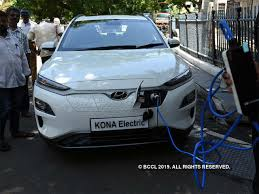car: (26, 12, 203, 153)
